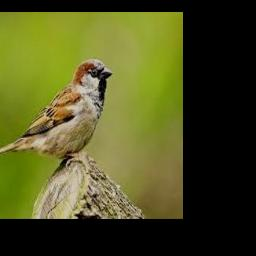Sparrow: (0, 58, 113, 170)
